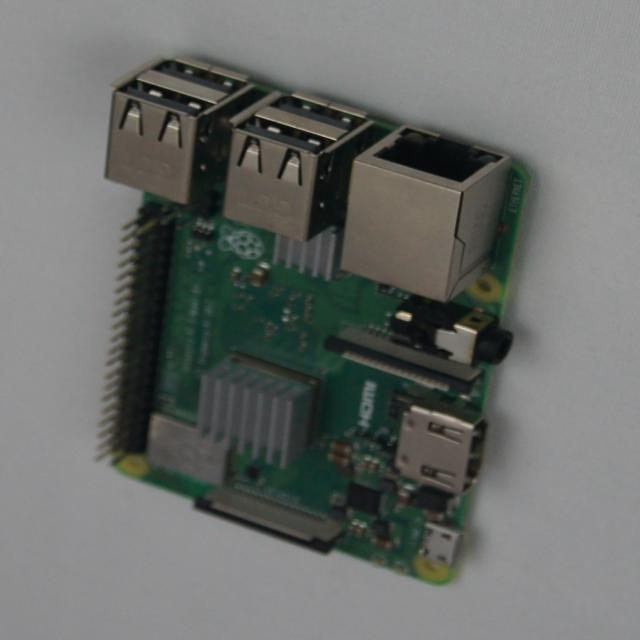Raspberry Pi 3 B-: (102, 59, 524, 584)
